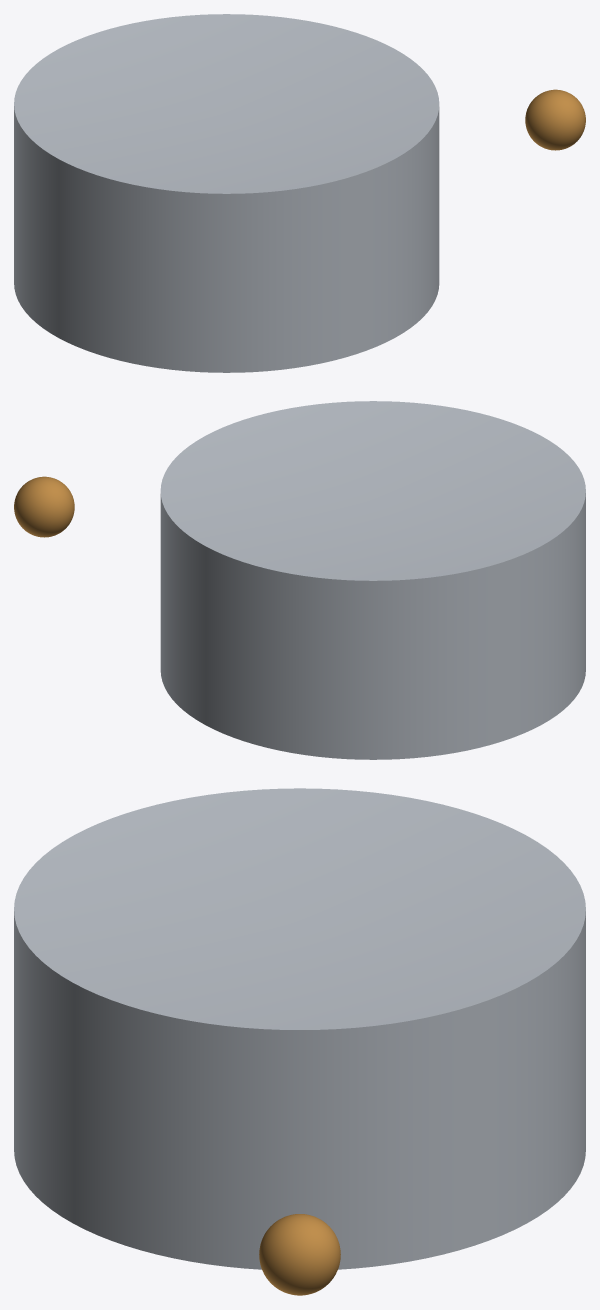
File: solid-blender.glb
3 renders of one model, top to bottom at view 1: azimuth 30°, elevation 25°; view 2: azimuth 150°, elevation 25°; view 3: azimuth 270°, elevation 25°, orthographic. The views are drawn at different scales.
Visible parts, largest first — view 1: bushing, preserved; view 2: bushing, preserved; view 3: bushing, preserved.
Boxes of the visible parts, x1=… form: bushing: x1=14, y1=14, x2=439, y2=372; preserved: x1=525, y1=89, x2=585, y2=150; bushing: x1=160, y1=401, x2=585, y2=759; preserved: x1=14, y1=476, x2=74, y2=537; bushing: x1=14, y1=788, x2=585, y2=1269; preserved: x1=259, y1=1214, x2=340, y2=1295.
Bounding box in the file's own units: 0.041 × 0.013 × 0.028.
